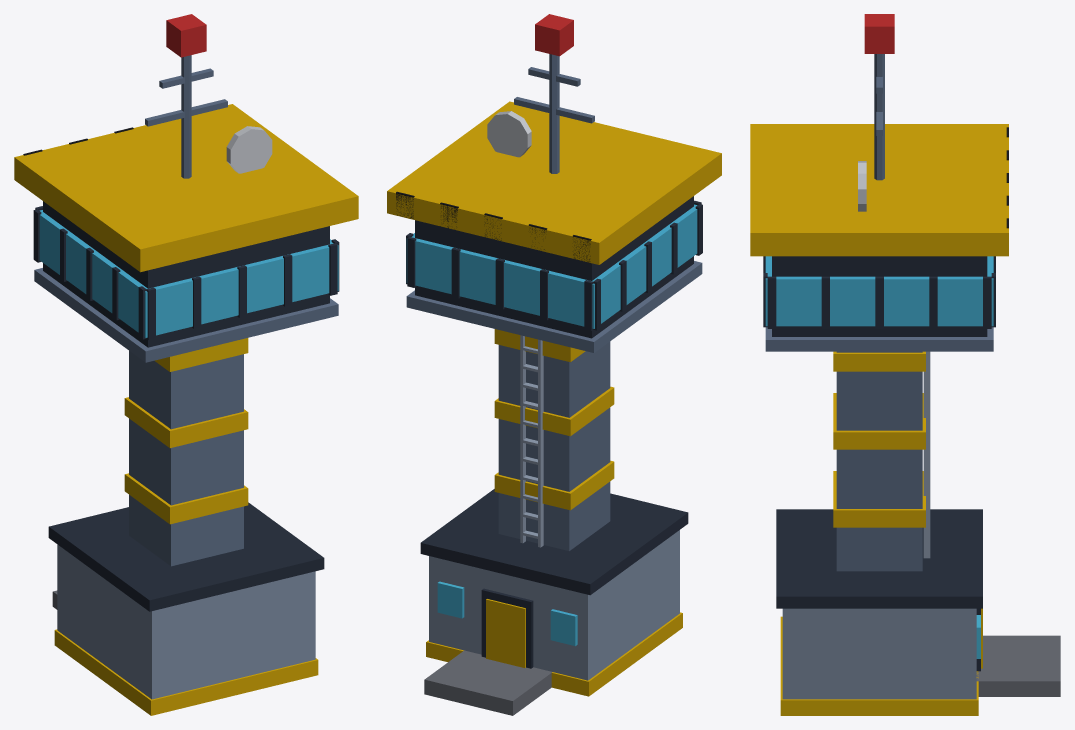
Rendered from Decor_MechaHangar_Tower.fbx.
3 renders of one model, left to right at view 1: azimuth 30°, elevation 25°; view 2: azimuth 150°, elevation 25°; view 3: azimuth 270°, elevation 25°, orthographic. The views are drawn at different scales.
Parts seen in each view (by area): view 1: Tower_Body; view 2: Tower_Body; view 3: Tower_Body.
Boxes of the visible parts, x1,y1,x2,y2 form: Tower_Body: [14, 14, 358, 715]; Tower_Body: [387, 14, 721, 715]; Tower_Body: [750, 14, 1060, 715].
Size of the model in its own units: 12 by 33.5 by 14.4.
